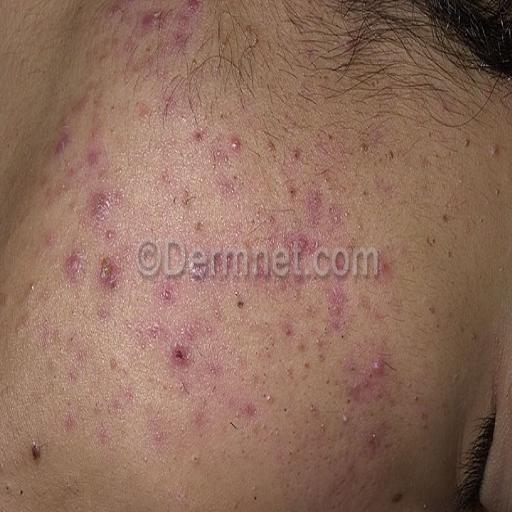Skin_Lesion: (184, 240, 266, 288), (280, 181, 328, 260), (348, 343, 391, 410), (213, 130, 246, 207), (108, 358, 132, 422), (326, 277, 351, 338), (89, 178, 117, 228), (130, 0, 163, 41), (170, 325, 194, 375), (98, 250, 121, 296), (147, 408, 167, 452), (364, 424, 386, 462), (25, 434, 46, 472), (49, 122, 71, 158), (158, 278, 179, 314), (63, 249, 83, 286), (85, 134, 105, 168), (240, 387, 256, 428), (376, 252, 394, 286), (206, 354, 223, 390), (385, 482, 406, 511), (61, 400, 77, 437), (106, 0, 134, 21), (290, 136, 307, 164), (284, 316, 296, 348), (184, 0, 205, 16), (73, 96, 87, 114)
